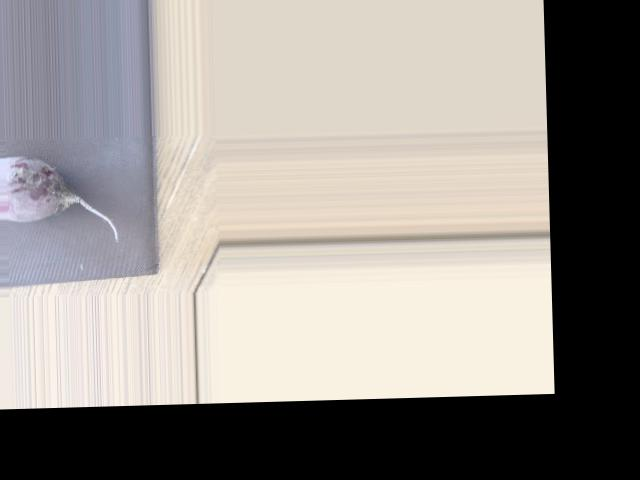beet: (5, 153, 118, 244)
